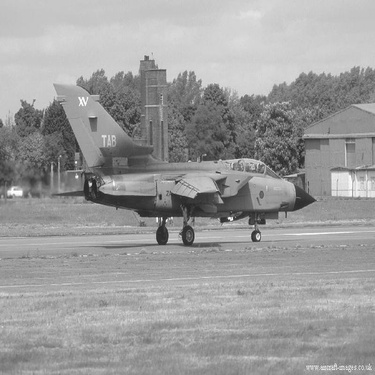airplane: (22, 50, 326, 262)
